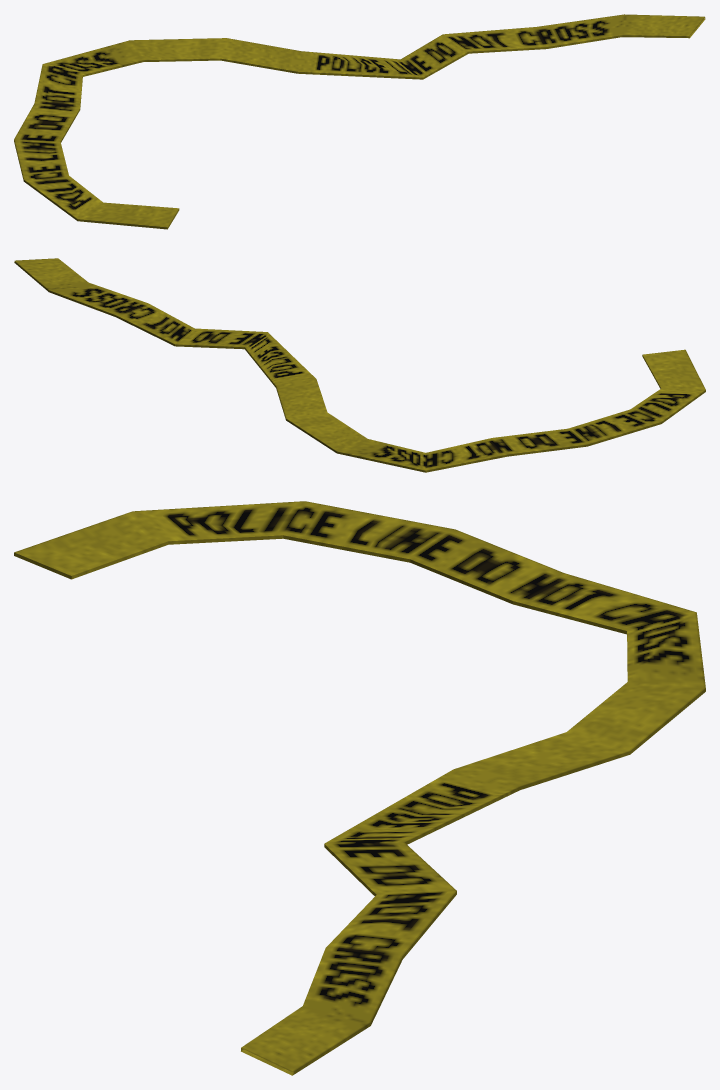
File: SM_EC_PoliceLine_1.fbx
3 views of the same model, one above another, from view 1: azimuth 30°, elevation 25°; view 2: azimuth 150°, elevation 25°; view 3: azimuth 270°, elevation 25° (orthographic). The views are drawn at different scales.
Parts seen in each view (by area): view 1: SM_EC_PoliceLine_1; view 2: SM_EC_PoliceLine_1; view 3: SM_EC_PoliceLine_1.
Part boxes in pixels (x1,y1,x2,y2): SM_EC_PoliceLine_1: (14,14,705,229); SM_EC_PoliceLine_1: (14,258,705,472); SM_EC_PoliceLine_1: (14,501,705,1075).
Size of the model in its own units: 3.57 by 1.83 by 0.0308.
